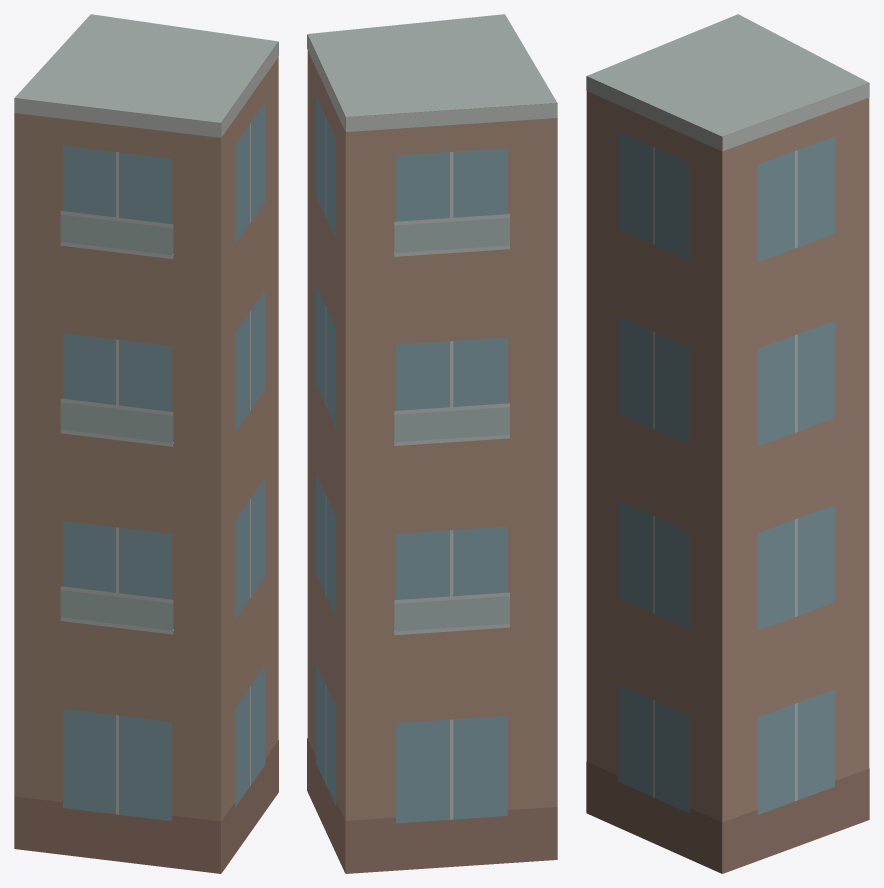
File: survey-upis-32680040.glb
3 renders of one model, left to right at view 1: azimuth 30°, elevation 25°; view 2: azimuth 150°, elevation 25°; view 3: azimuth 270°, elevation 25°, orthographic. The views are drawn at different scales.
Visible parts, largest first — view 1: survey-upis-32680040.tmp; view 2: survey-upis-32680040.tmp; view 3: survey-upis-32680040.tmp.
Part boxes in pixels (x1,y1,x2,y2): survey-upis-32680040.tmp: (14,14,278,873); survey-upis-32680040.tmp: (307,14,557,873); survey-upis-32680040.tmp: (586,14,869,873).
Bounding box in the file's own units: 4.36 × 12.2 × 4.25.
